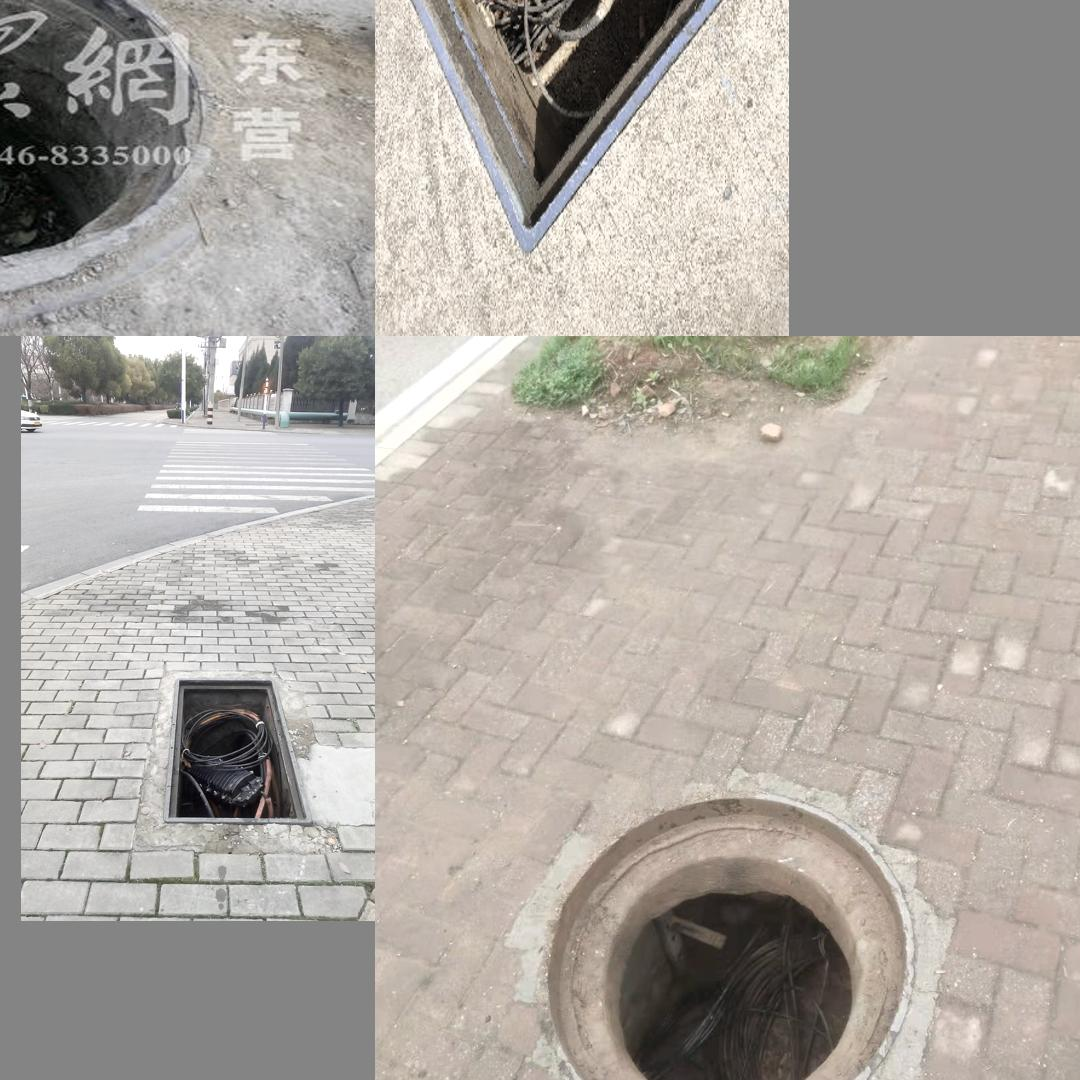lose: (538, 791, 916, 1080), (375, 0, 773, 254), (0, 0, 229, 321), (125, 666, 323, 860)
